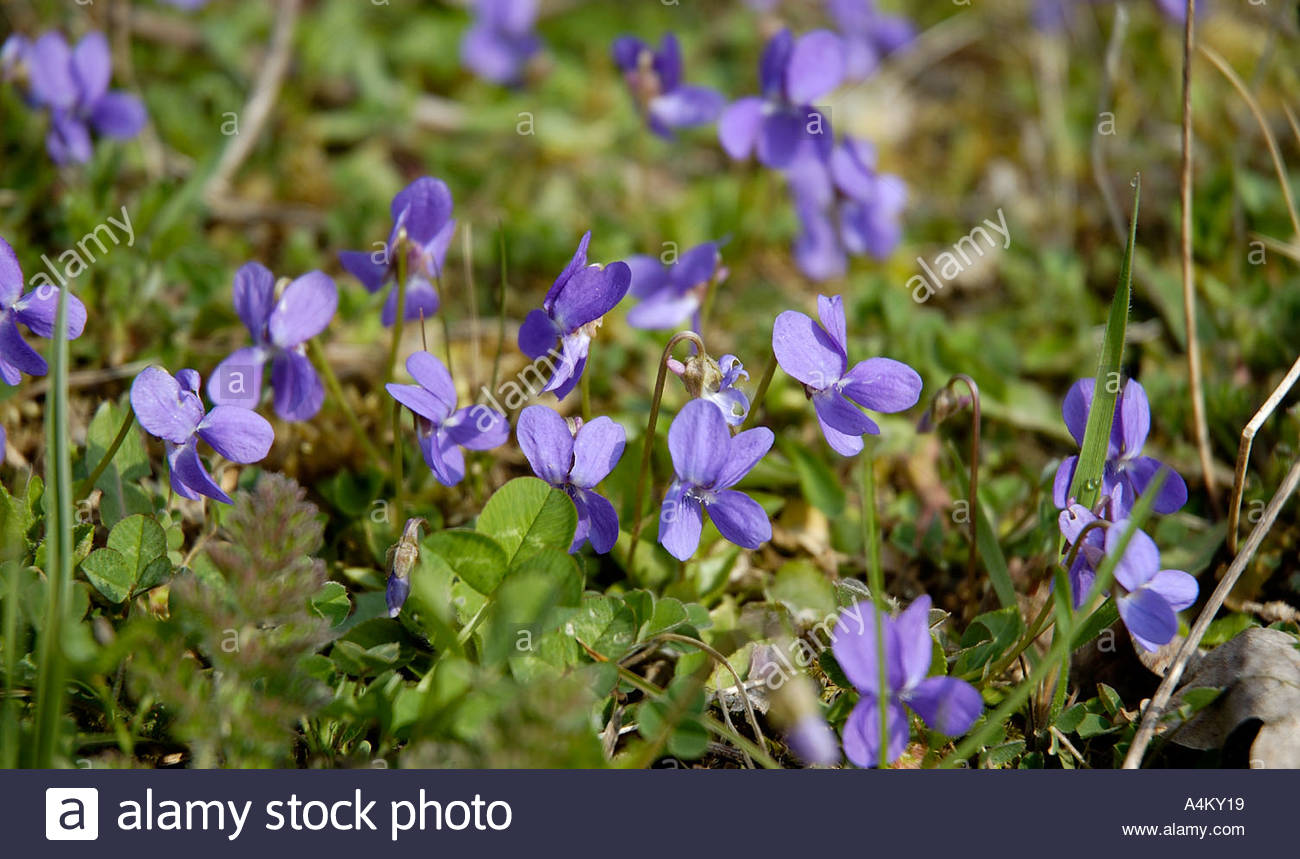violet: (822, 582, 1006, 745), (779, 278, 927, 466), (117, 358, 275, 515), (639, 398, 773, 561), (362, 347, 519, 482), (218, 253, 337, 418), (498, 234, 613, 401), (519, 404, 639, 560), (1092, 513, 1217, 652)
